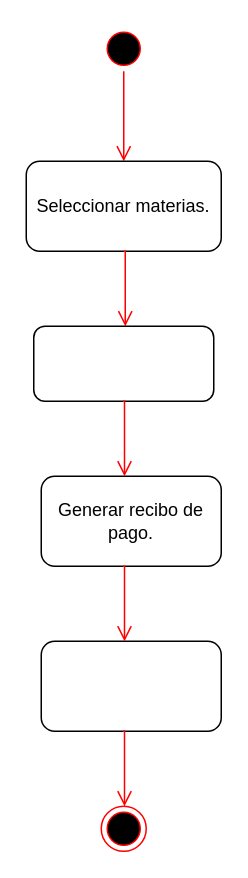
This 248x878 diagram has some shape labels left out. Here are the shapes that lost their labels. From the top down, the centre of each, then its label:
[123,363]: Validar cupos.
[130,685]: Confirmar matrícula.
